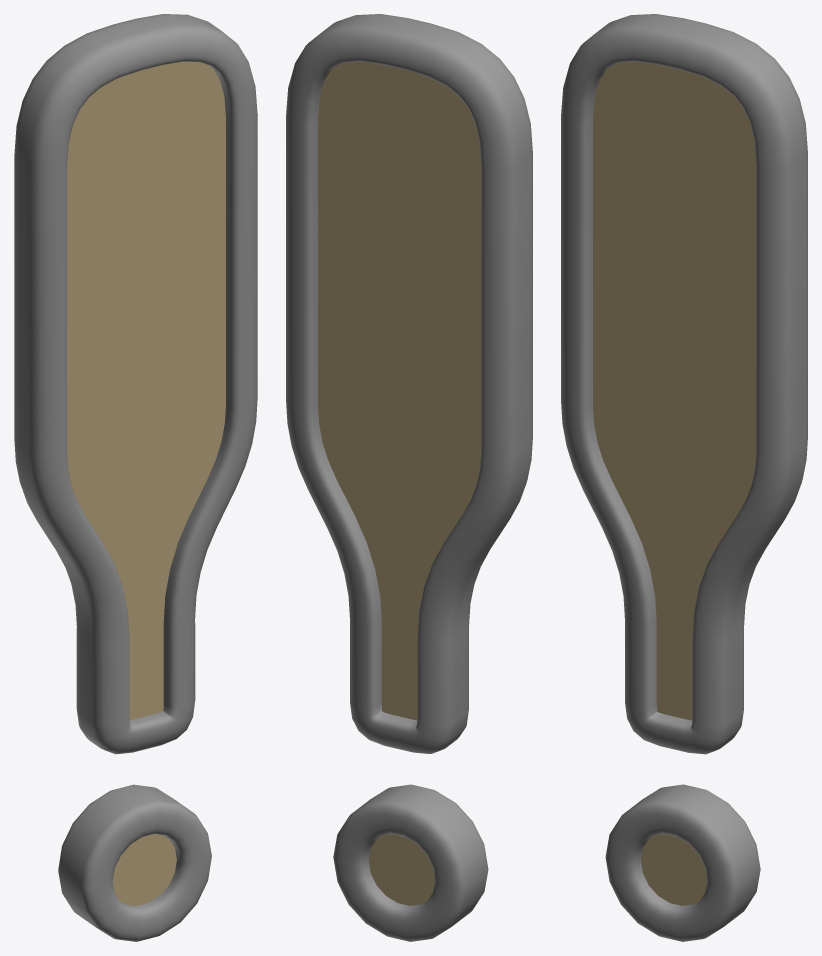
The model's file is wakuwaku.FBX.
3 views of the same model, side by side, from view 1: azimuth 30°, elevation 25°; view 2: azimuth 150°, elevation 25°; view 3: azimuth 330°, elevation 25° (orthographic).
Parts seen in each view (by area): view 1: Box001; view 2: Box001; view 3: Box001.
Boxes of the visible parts, <box> form: Box001: <box>14,14,257,941</box>; Box001: <box>286,14,532,941</box>; Box001: <box>561,14,807,941</box>.
Size of the model in its own units: 38.42 by 146 by 9.82.
